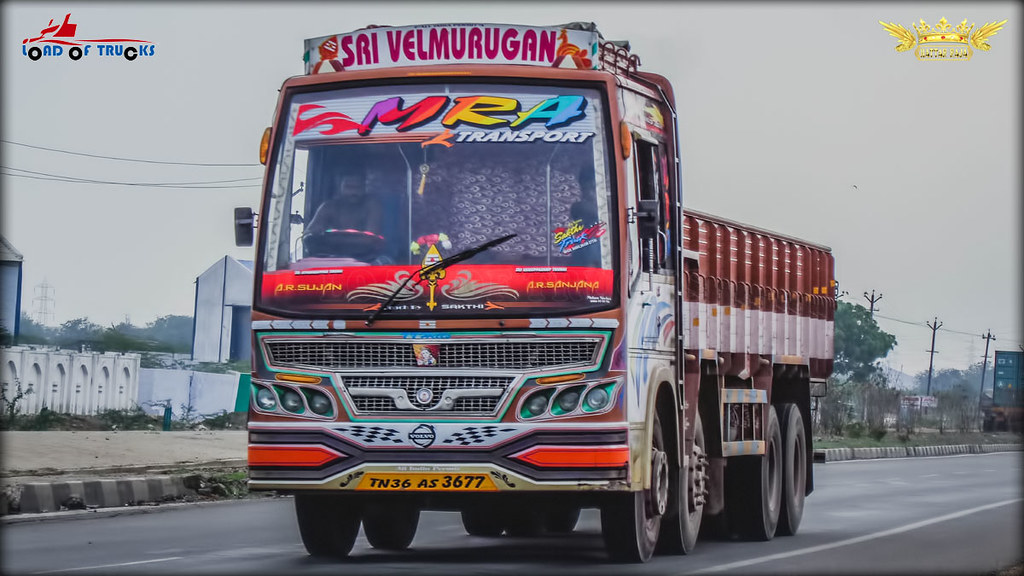truck: (154, 8, 877, 572)
